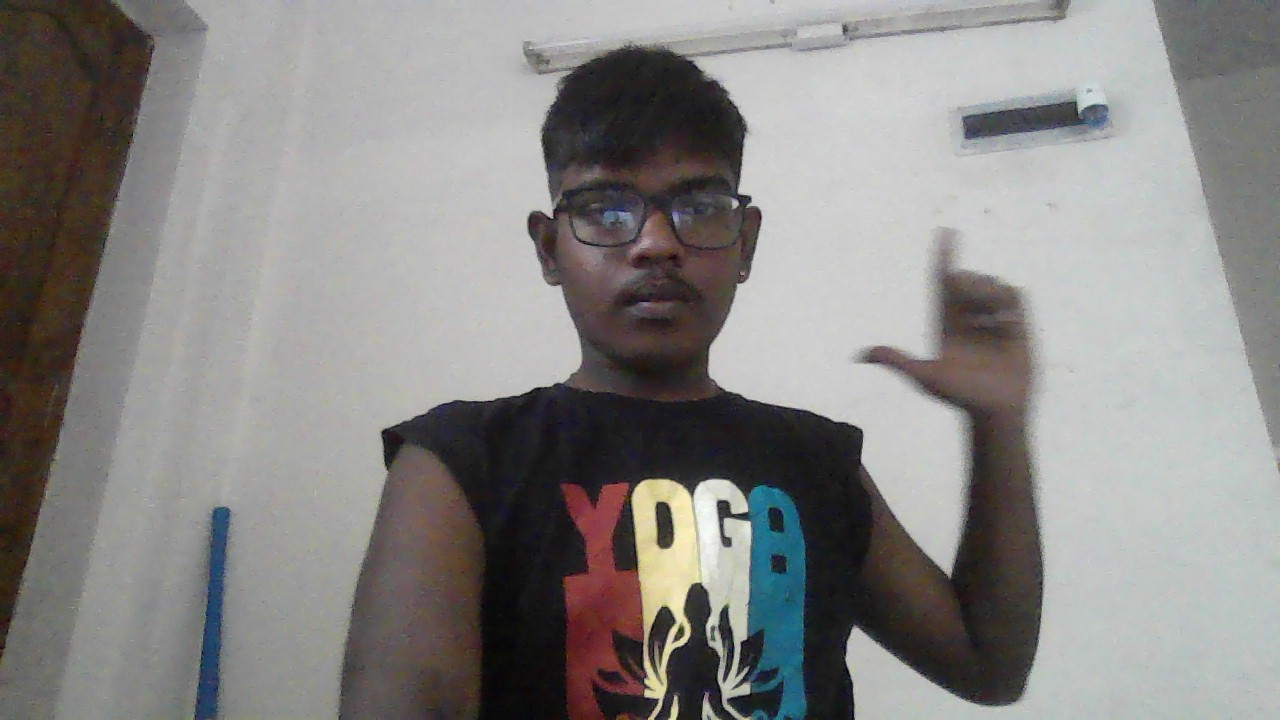L: (852, 224, 1033, 417)
